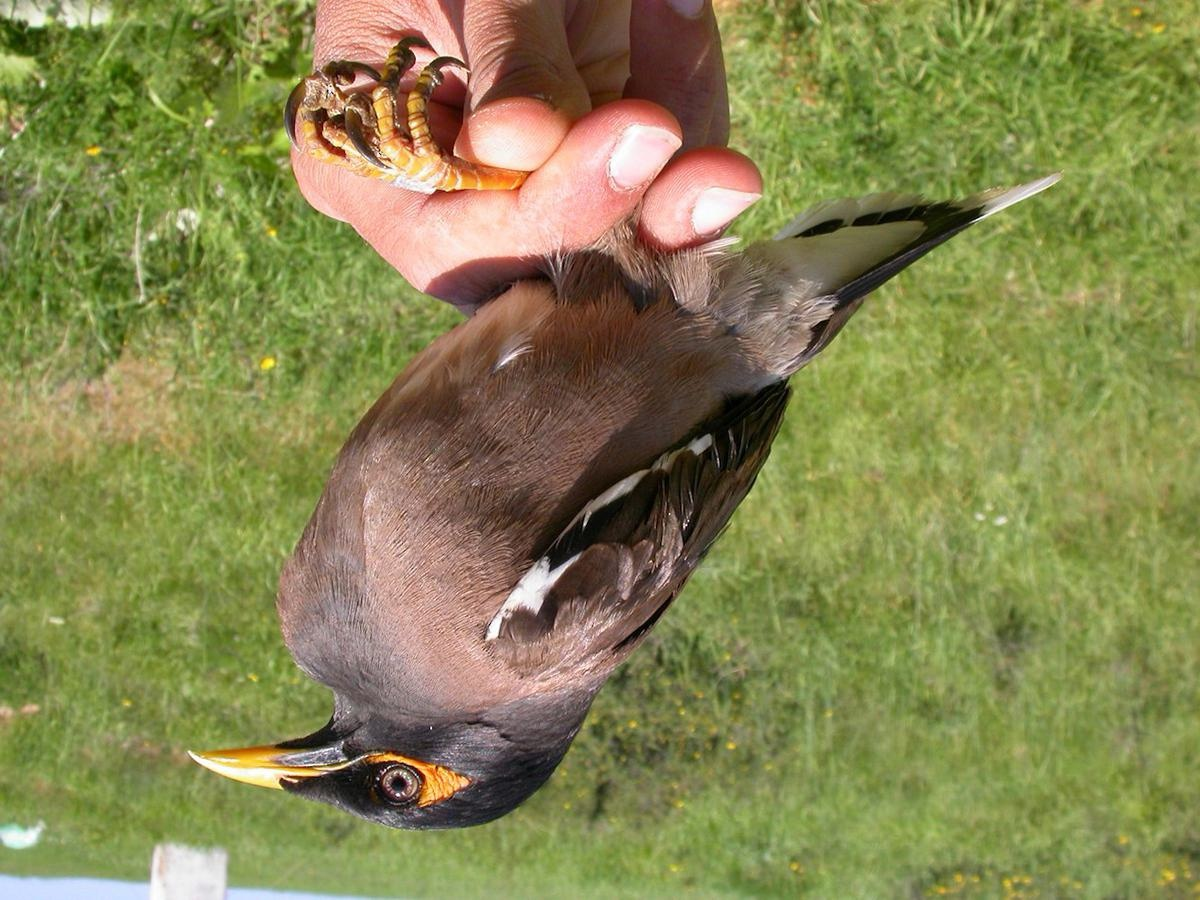myna: (174, 135, 934, 827)
